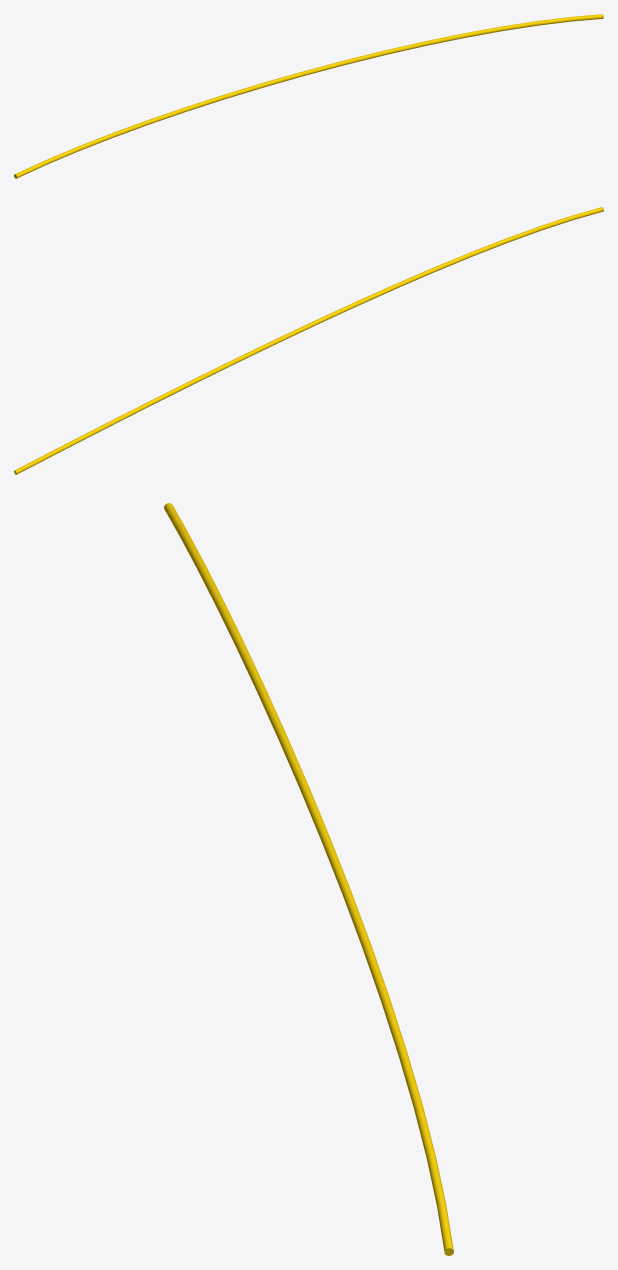
Rendered from Event_421115418_track_57.fbx.
3 views of the same model, one above another, from view 1: azimuth 30°, elevation 25°; view 2: azimuth 210°, elevation 25°; view 3: azimuth 270°, elevation 25° (orthographic). The views are drawn at different scales.
Parts seen in each view (by area): view 1: Model; view 2: Model; view 3: Model.
Part boxes in pixels (left/top/right/bottom): Model: left=14, top=14, right=603, bottom=178; Model: left=14, top=207, right=603, bottom=474; Model: left=164, top=503, right=453, bottom=1255.
Size of the model in its own units: 6.38 by 0.5616 by 1.22.
